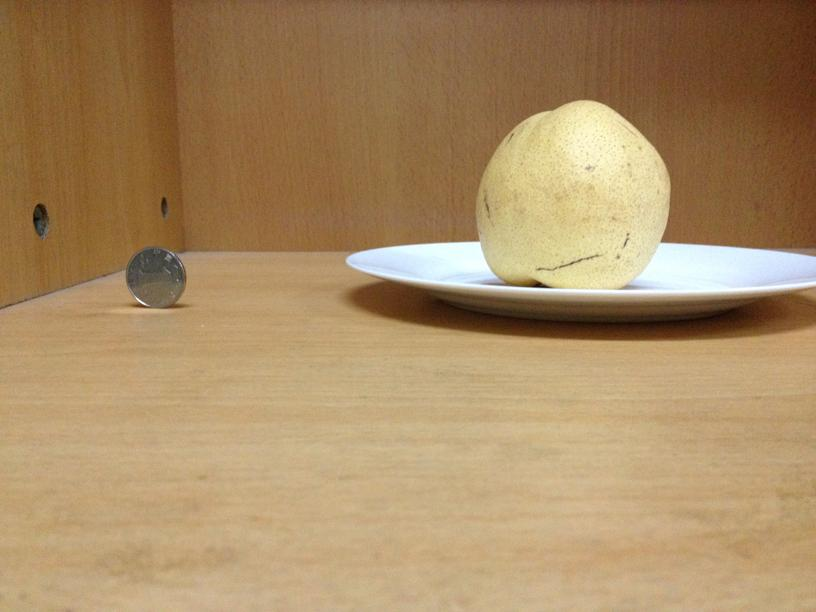coin: (124, 248, 185, 308)
pear: (478, 97, 669, 291)
